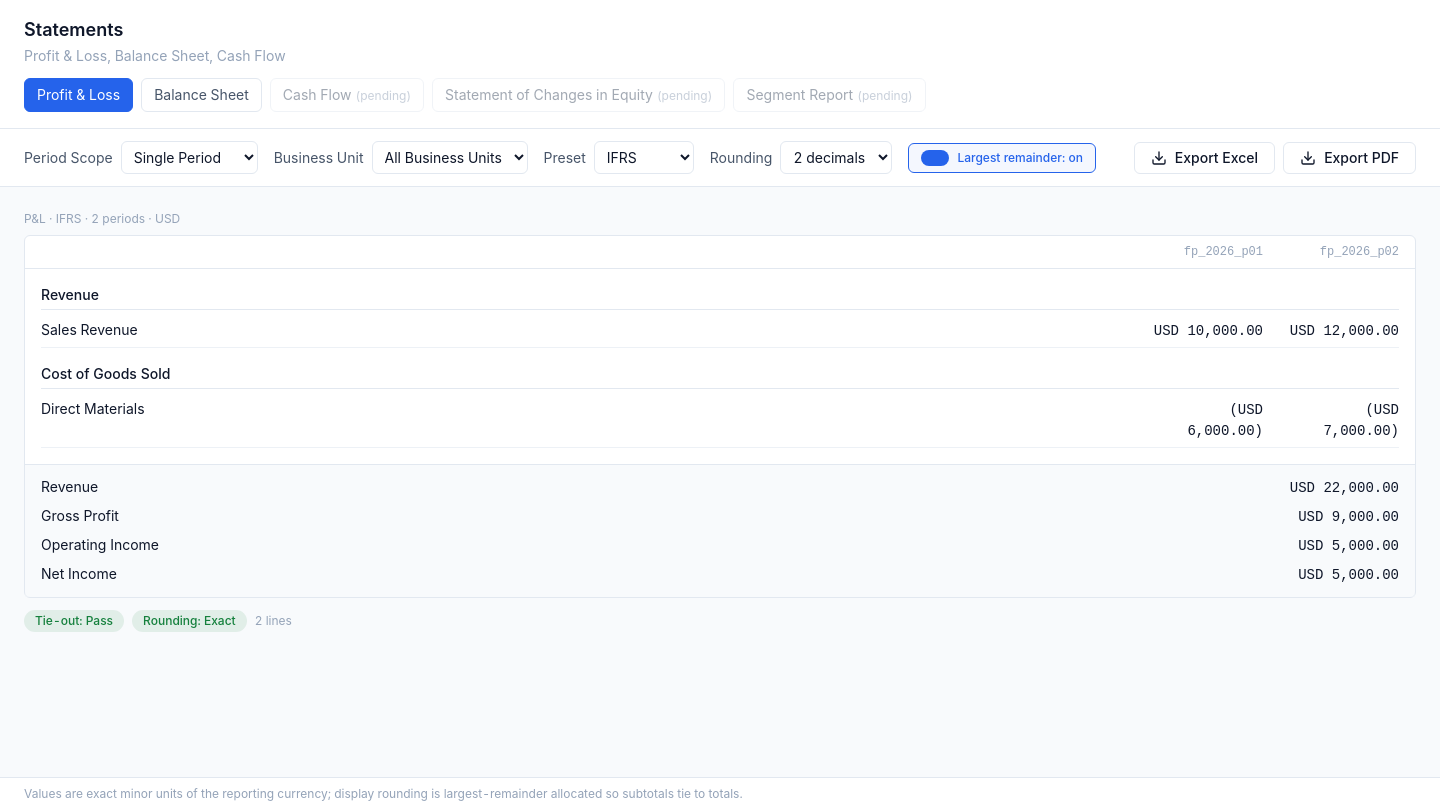
Test: S-060 Statements axe › renders export error banner when export rejects
Click the button with test id "stmt-export-excel-btn": (1204, 158) [1134,142,1275,174]
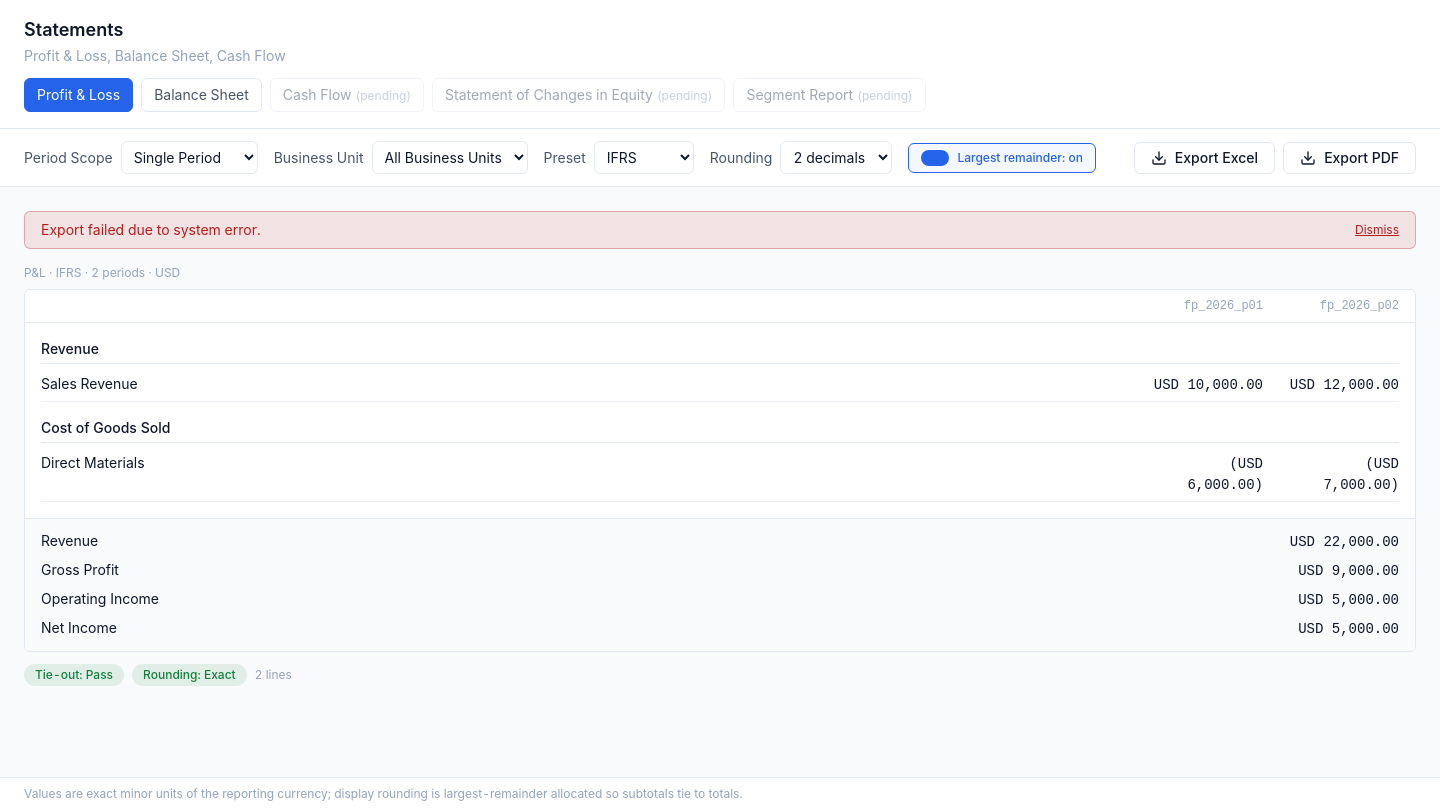
Expected: the message "Export failed due to system error. Dismiss" is shown, [24,211,1416,249]
Expected: the text "Export failed due to system error." is shown, [41,220,261,240]
Note: Dismiss banner
Click the button "Dismiss": (1377, 230) [1355,222,1399,238]
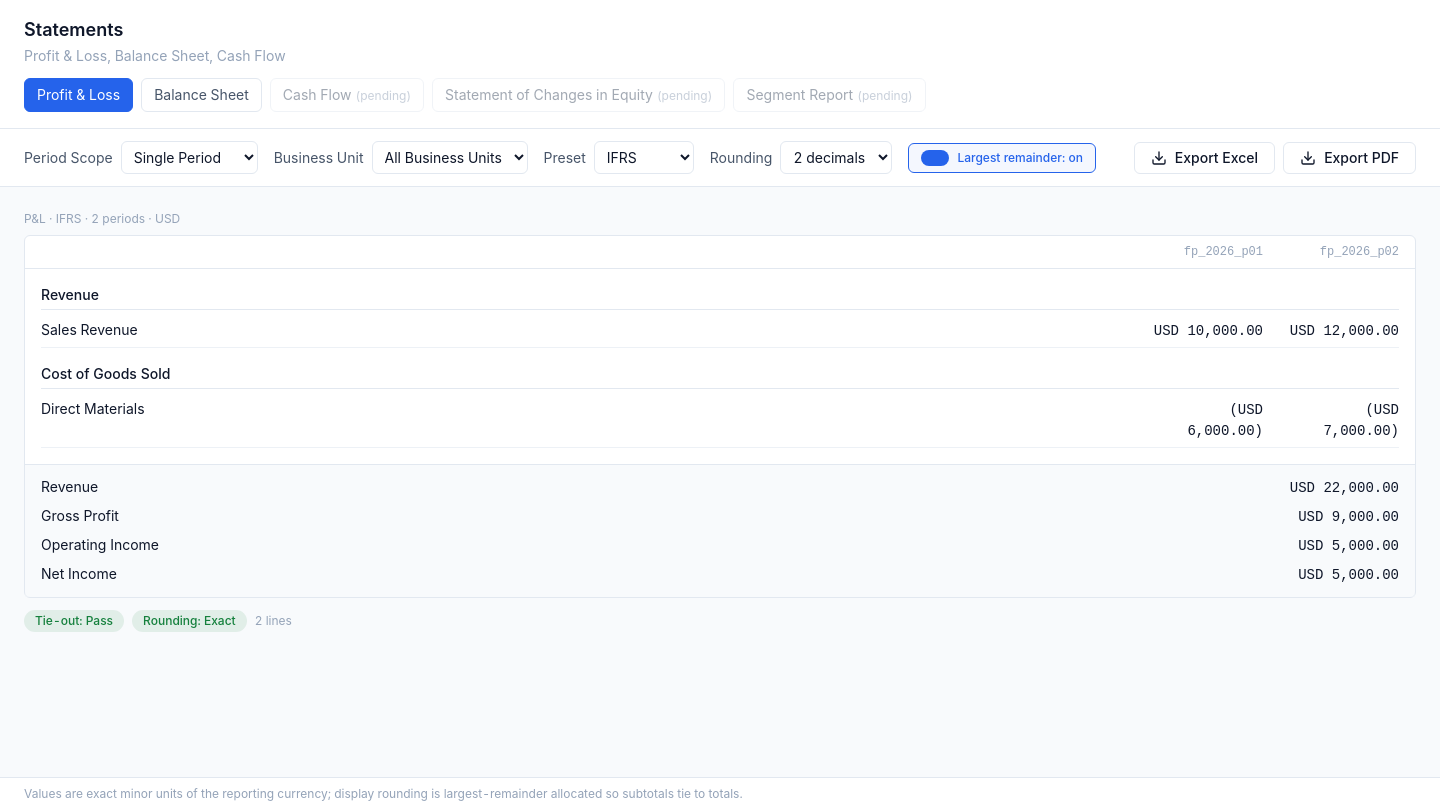
Expected: the message with test id "stmt-export-error" is gone
